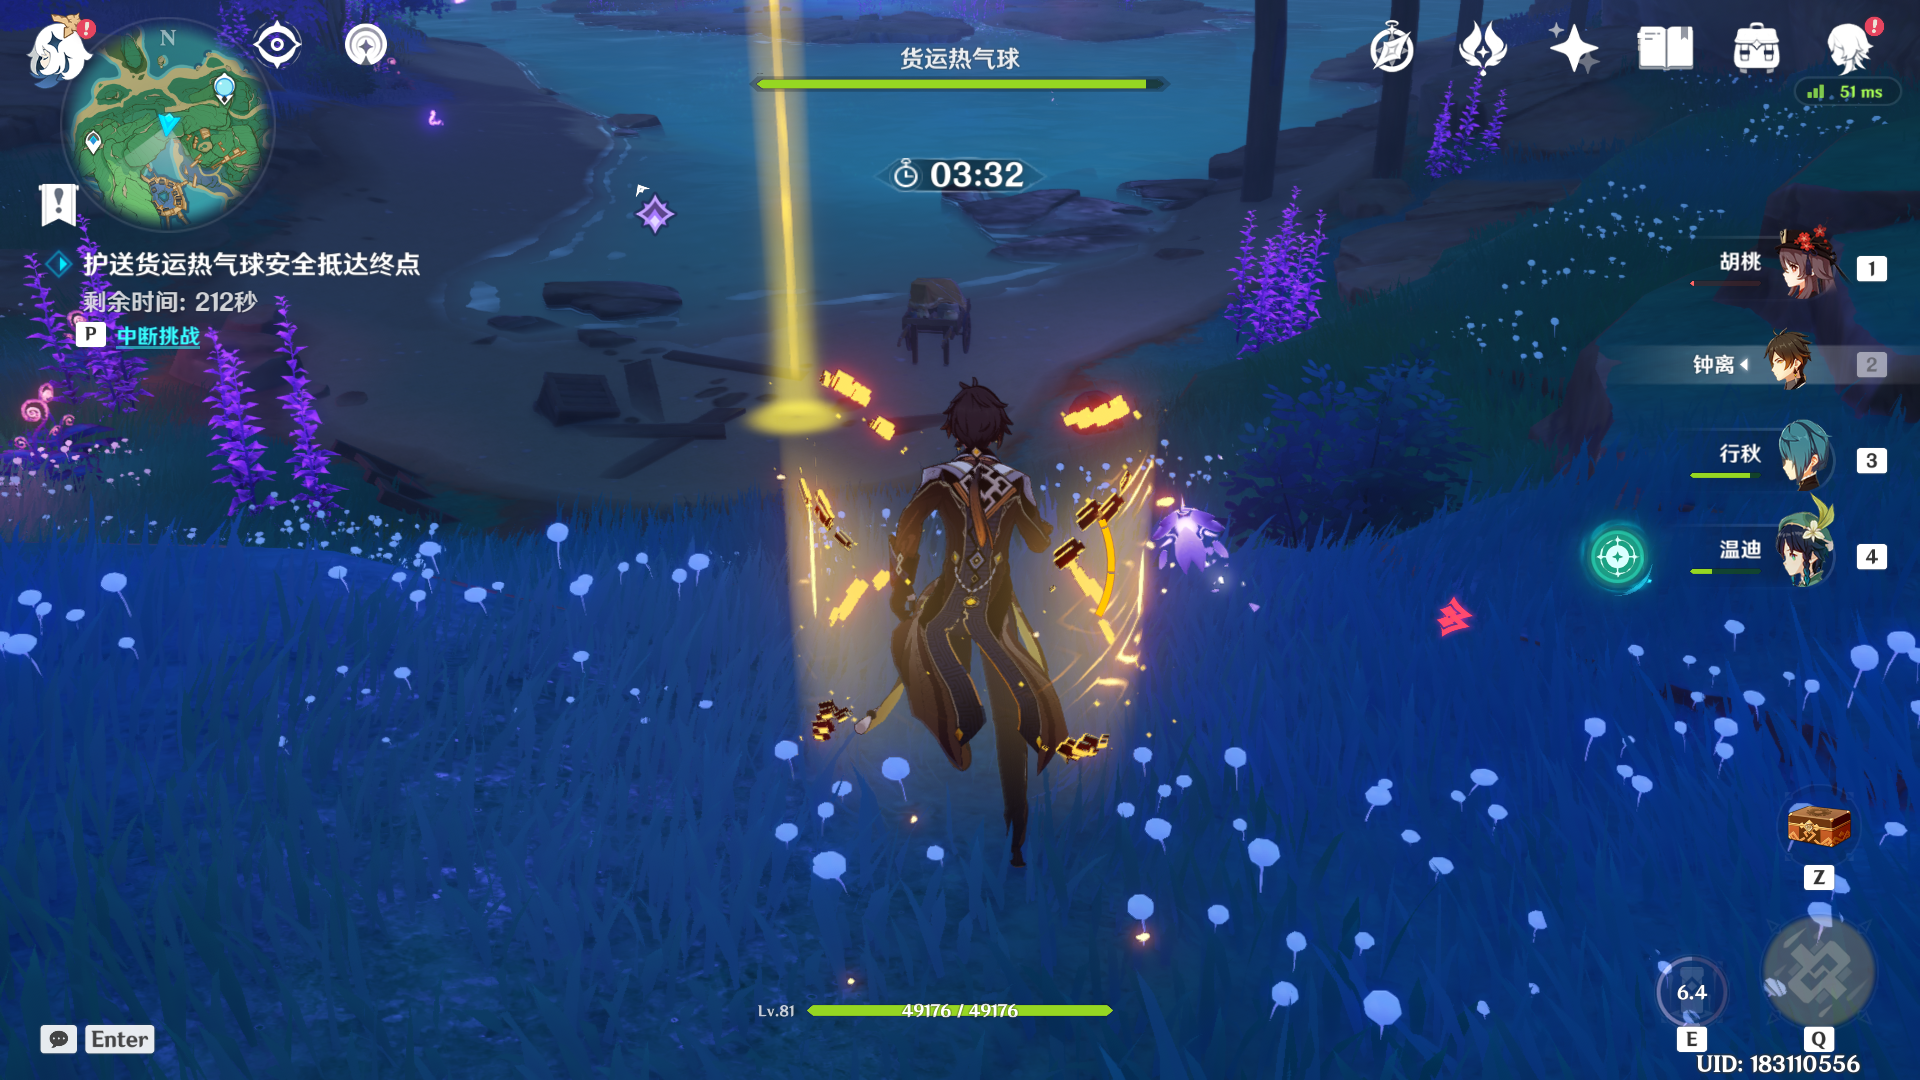character: (814, 360, 1145, 939)
